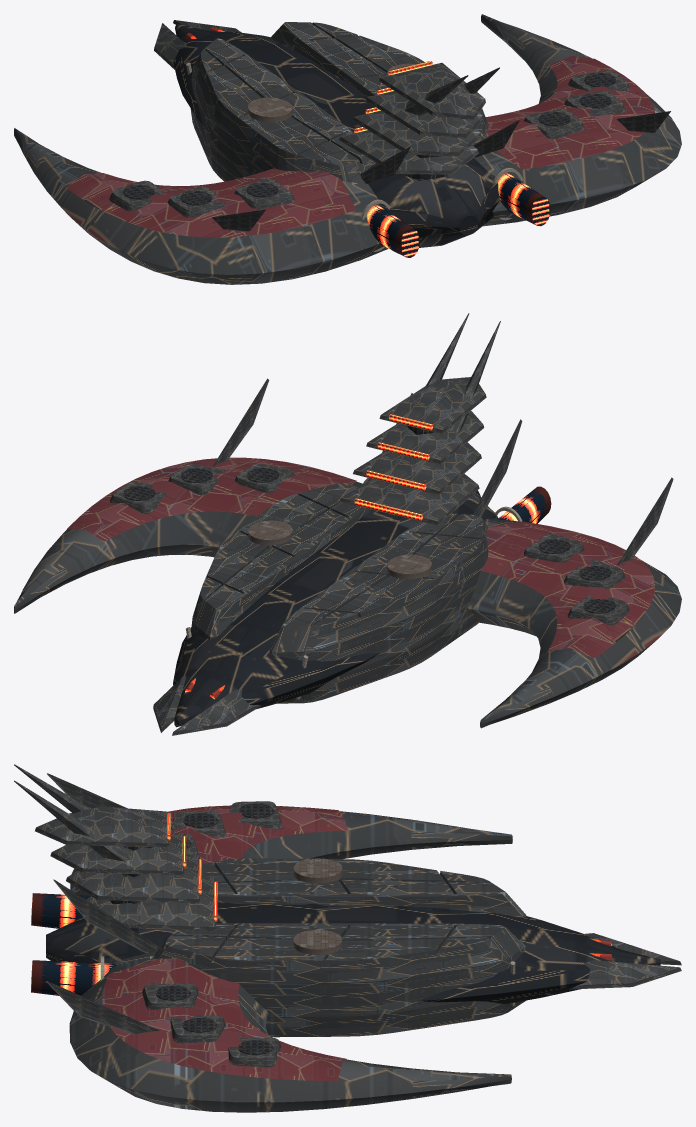
File: dynasty_battleship.glb
3 views of the same model, one above another, from view 1: azimuth 30°, elevation 25°; view 2: azimuth 150°, elevation 25°; view 3: azimuth 270°, elevation 25° (orthographic). The views are drawn at different scales.
Visible parts, largest first — view 1: dynasty_battleship_lod_source; view 2: dynasty_battleship_lod_source; view 3: dynasty_battleship_lod_source.
Boxes of the visible parts, x1=… form: dynasty_battleship_lod_source: x1=14, y1=14, x2=681, y2=284; dynasty_battleship_lod_source: x1=14, y1=313, x2=681, y2=735; dynasty_battleship_lod_source: x1=14, y1=764, x2=681, y2=1112.
Size of the model in its own units: 3.79 by 1.39 by 3.74.
1 material, 1 textured.
